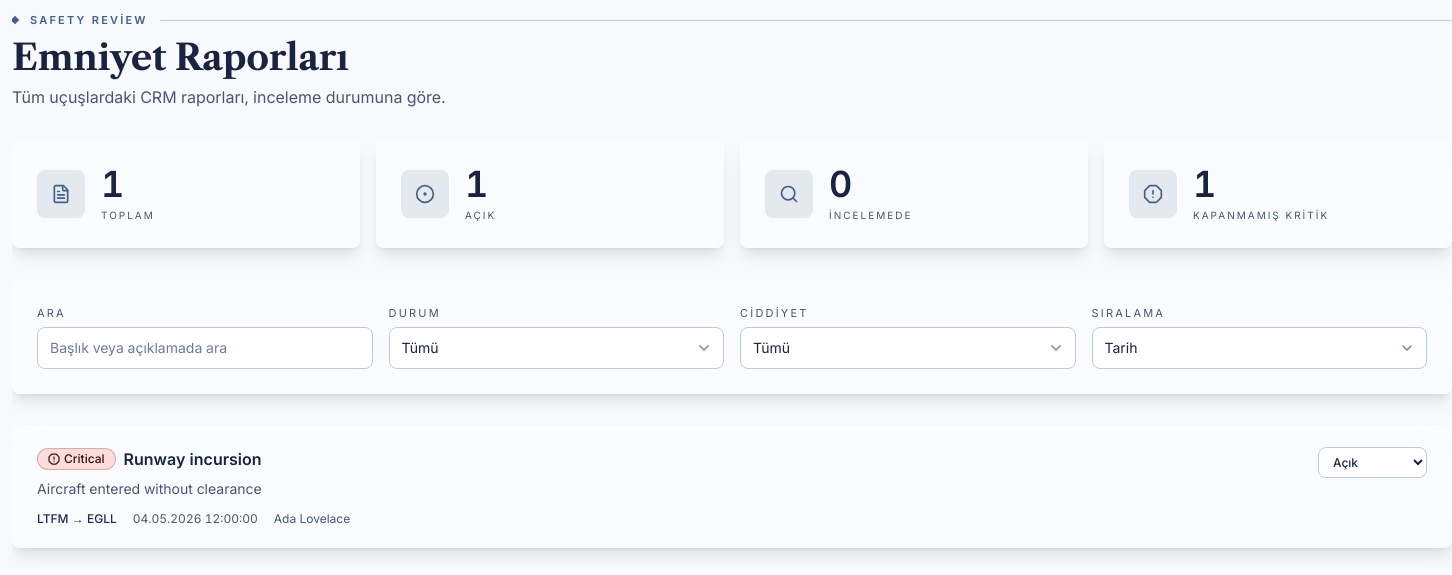
Test case: SafetyReportsPage › reports a failed status change and leaves the select where it was
The width and height of the screenshot is (1452, 575).
Check: the heading "Runway incursion" is shown, box [124,447,262,471]
Select "Kapatıldı" in the dropdown named "Durumu değiştir" at [1372, 462], box [1318,447,1427,478]
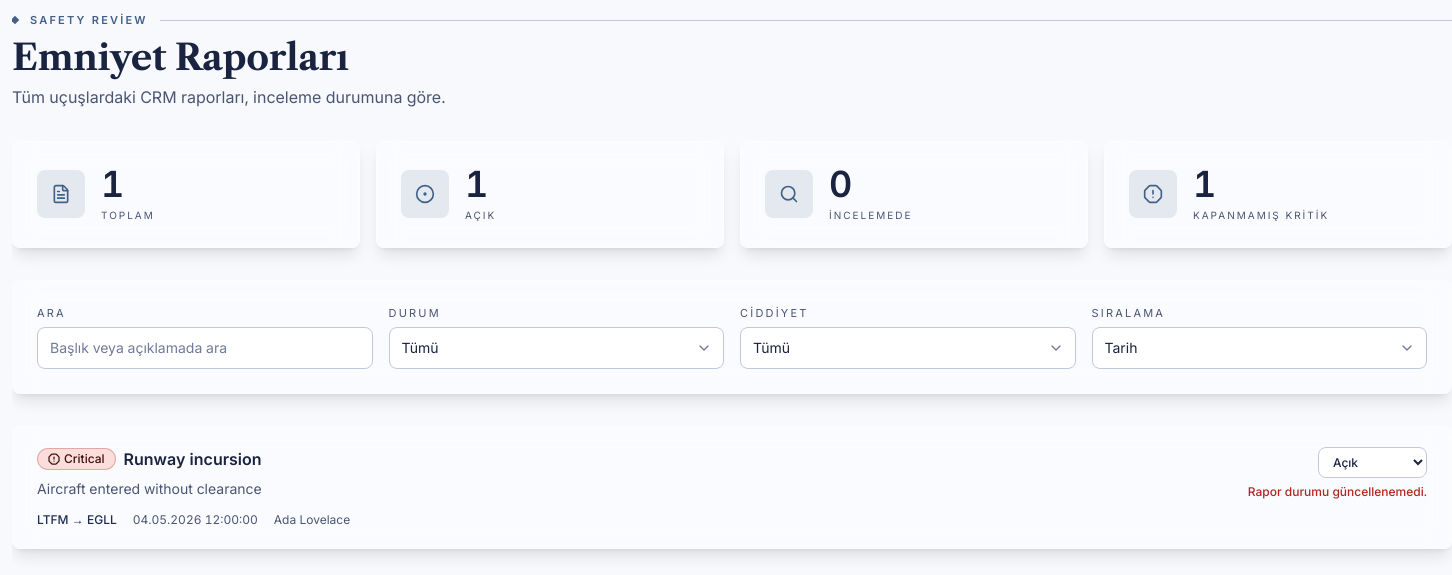
Check: the message reads "Rapor durumu güncellenemedi.", box [1248,484,1427,499]
